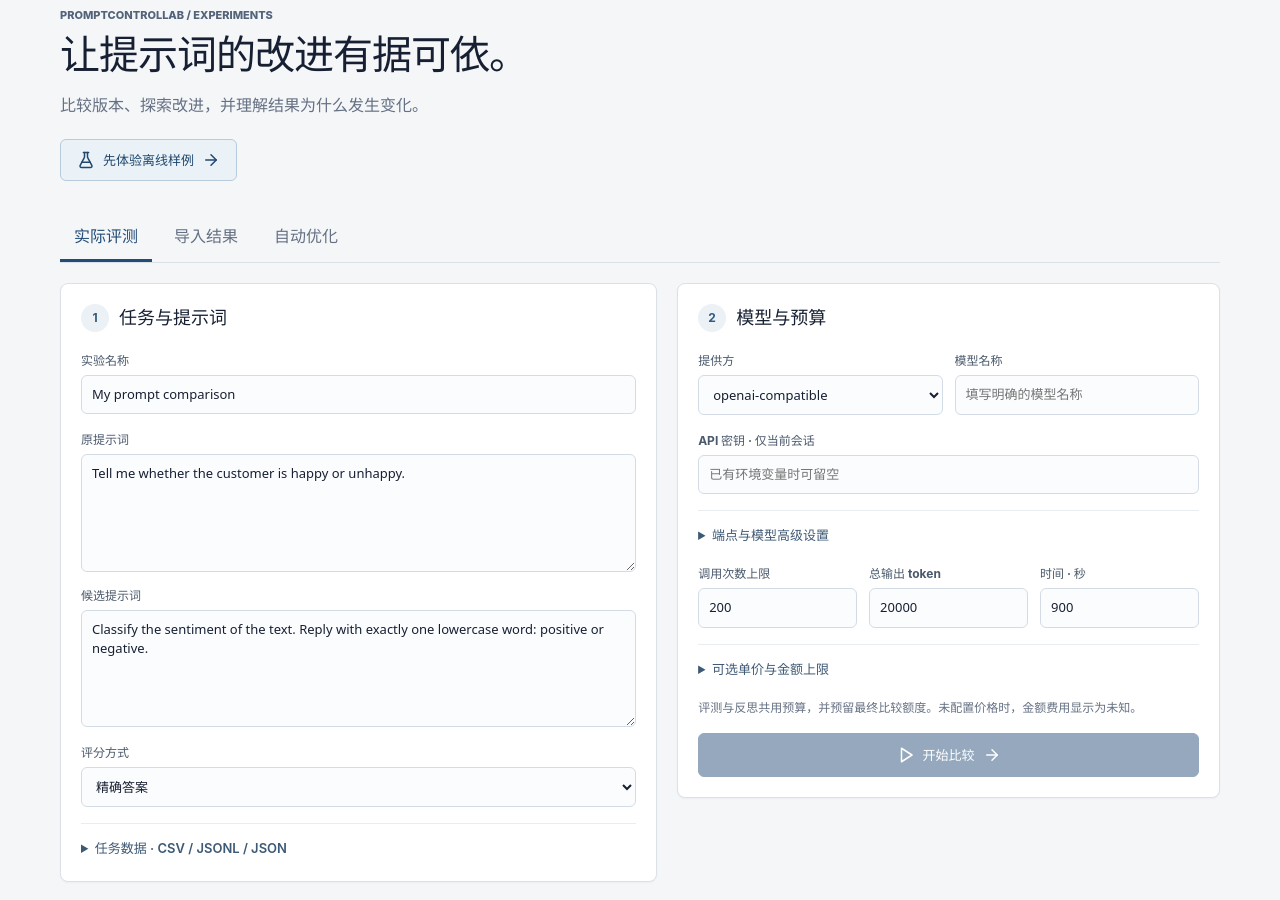
experiment workspace › explains bounded optimization in Chinese and keeps model selection explicit
The width and height of the screenshot is (1280, 900).
Click the button "自动优化". click: click(306, 236)
box: top-left (260, 211), bottom-right (352, 262)
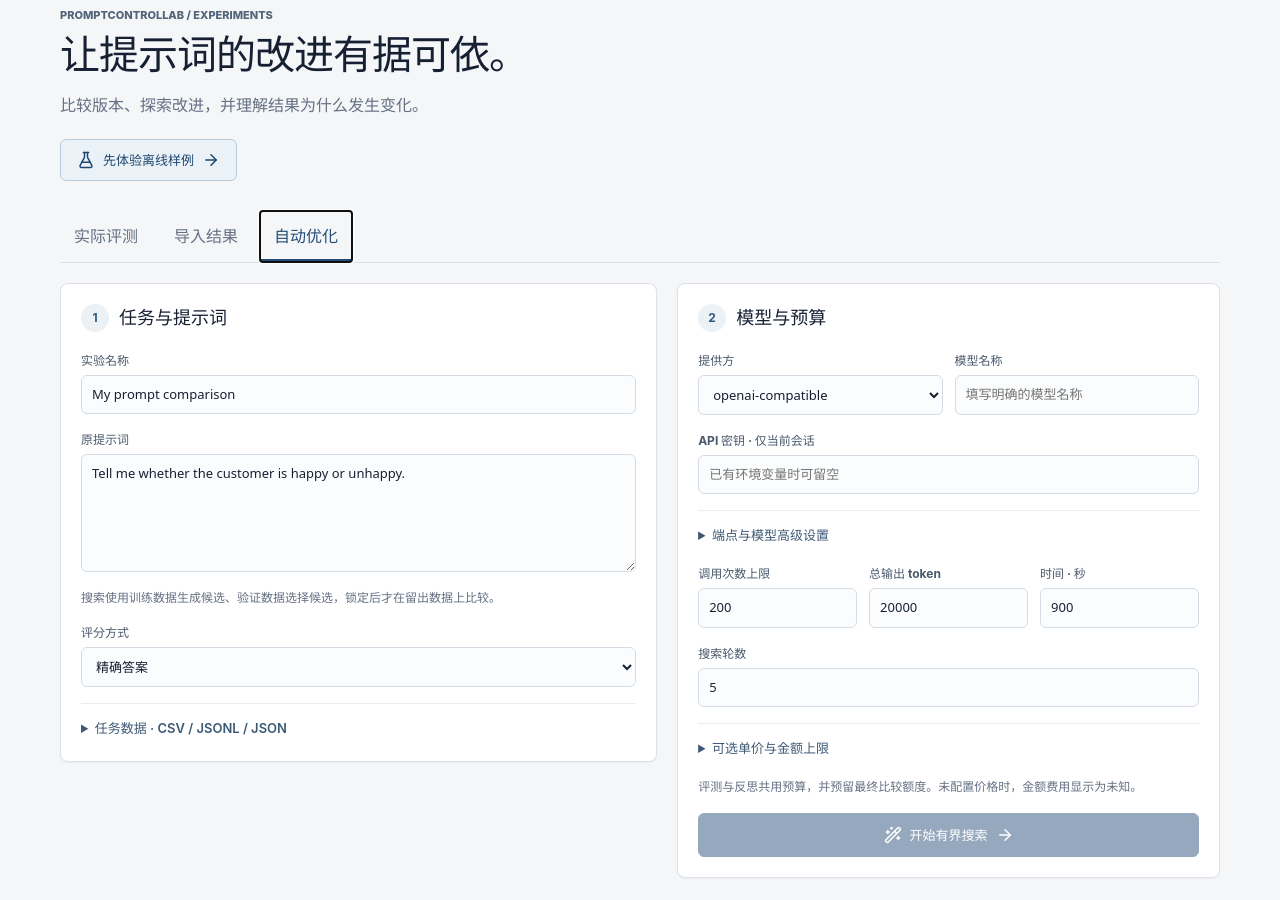
Expected: the button "开始有界搜索" is disabled, top-left (698, 813), bottom-right (1199, 857)
Now the text "搜索使用训练数据生成候选、验证数据选择候选，锁定后才在留出数据上比较。" is shown, box top-left (81, 590), bottom-right (501, 605)
Type "chosen-model" into the field labelled "模型名称". click: (1077, 395)
box: top-left (955, 375), bottom-right (1199, 415)
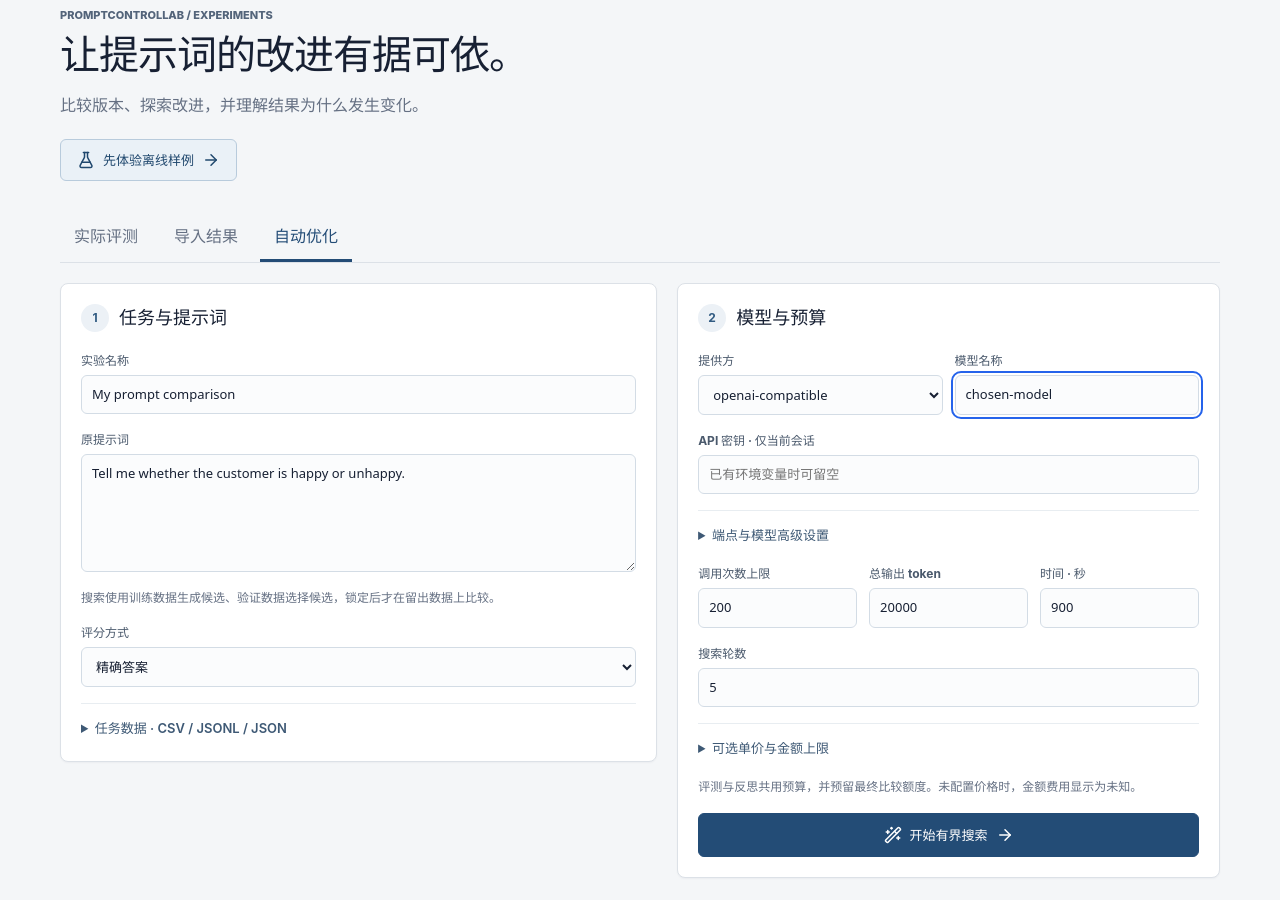
Now the number field labelled "搜索轮数" holds "5", box top-left (698, 668), bottom-right (1199, 708)
Now the button "开始有界搜索" is enabled, box top-left (698, 813), bottom-right (1199, 857)
